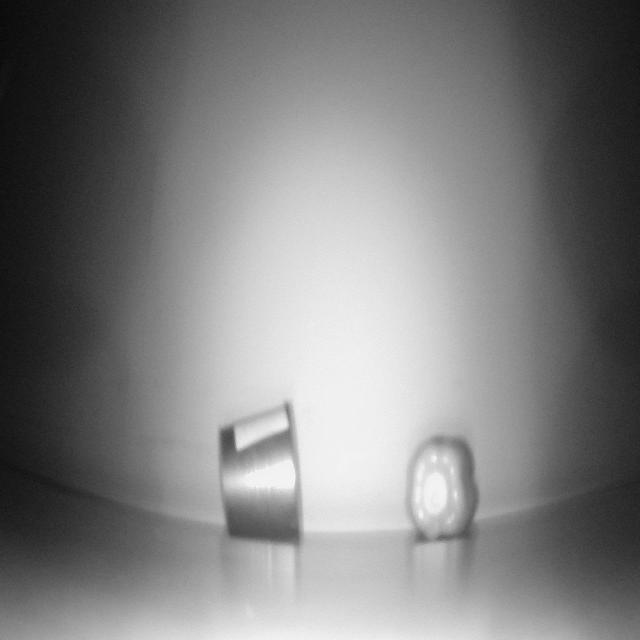targets: (220, 412, 309, 547), (405, 438, 473, 536)
